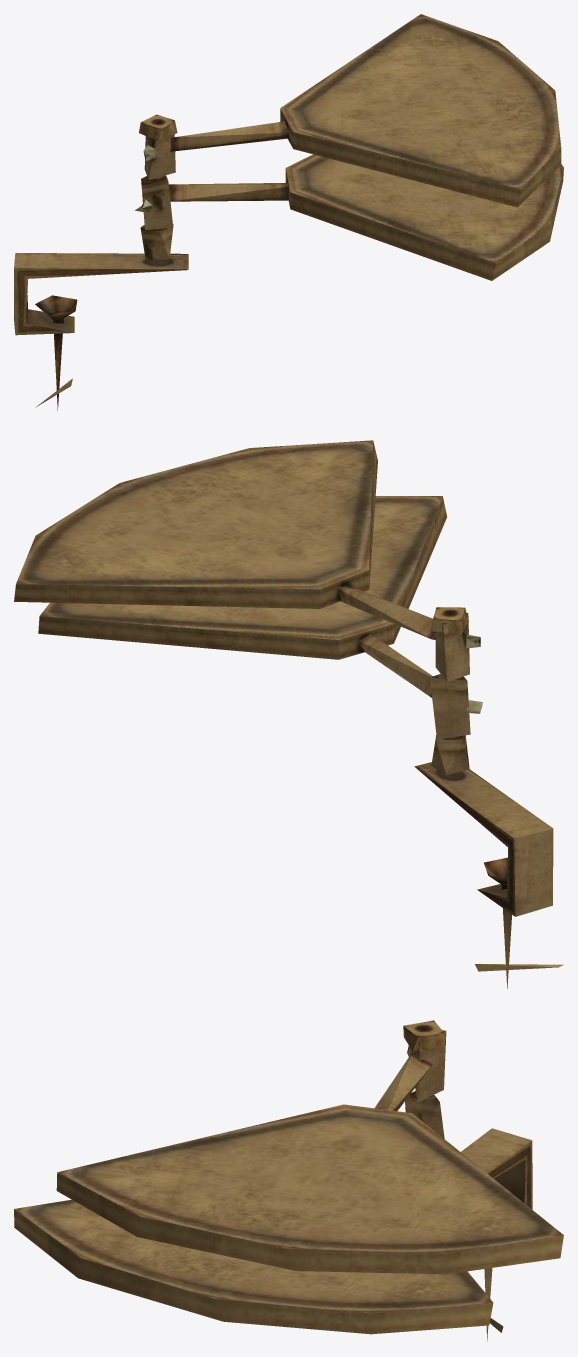
File: shelf-wall-small.lod1.glb
The picture shows the model from 3 angles, top to bottom: view 1: azimuth 30°, elevation 25°; view 2: azimuth 150°, elevation 25°; view 3: azimuth 270°, elevation 25°; orthographic projection. The views are drawn at different scales.
Visible parts, largest first — view 1: shelf-wall-small; view 2: shelf-wall-small; view 3: shelf-wall-small.
Part boxes in pixels (x1=…): shelf-wall-small: x1=14, y1=14, x2=563, y2=410; shelf-wall-small: x1=14, y1=440, x2=563, y2=988; shelf-wall-small: x1=14, y1=1020, x2=563, y2=1341.
Size of the model in its own units: 0.4263 by 0.2537 by 0.352.
Materials: 1 (1 with a texture image).
